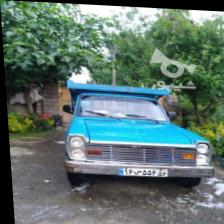plate: (114, 164, 166, 175)
